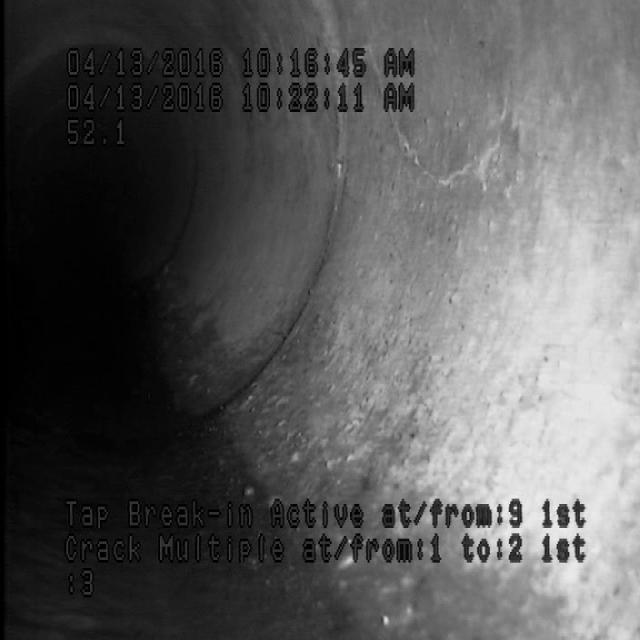Crack: (372, 32, 534, 204)
